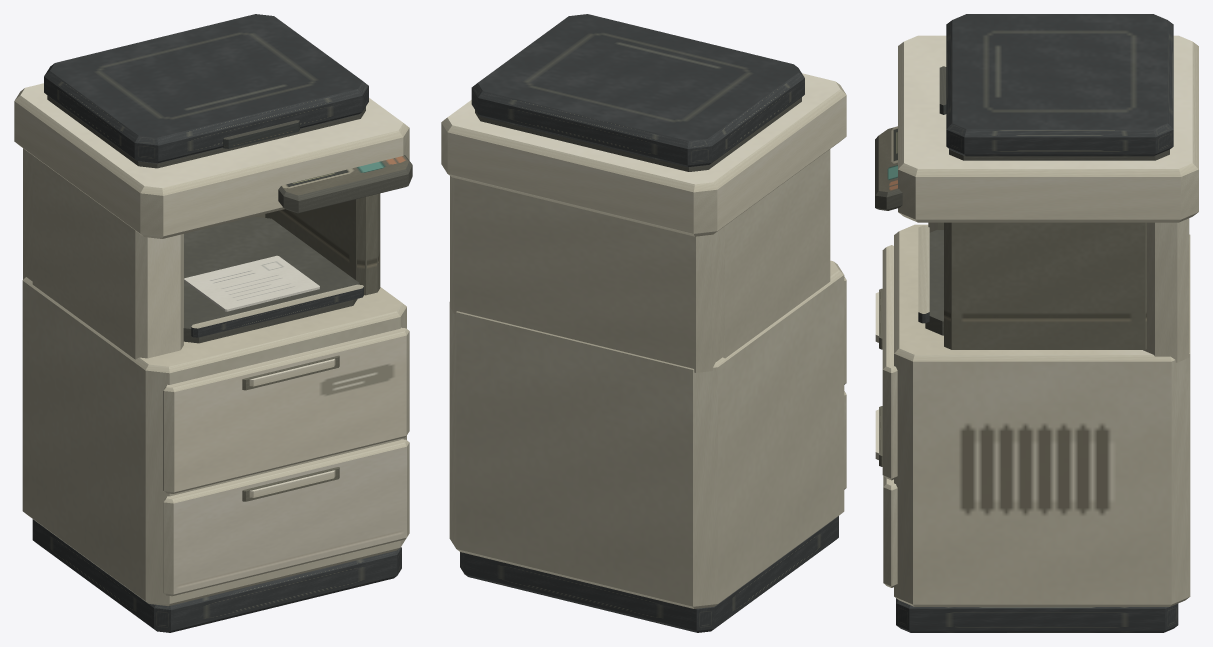
The model's file is office_photocopier.glb.
3 renders of one model, left to right at view 1: azimuth 30°, elevation 25°; view 2: azimuth 150°, elevation 25°; view 3: azimuth 270°, elevation 25°, orthographic. The views are drawn at different scales.
Visible parts, largest first — view 1: Office Photocopier; view 2: Office Photocopier; view 3: Office Photocopier.
Part boxes in pixels (bbox=[...]): Office Photocopier: bbox=[14, 14, 412, 632]; Office Photocopier: bbox=[441, 14, 846, 632]; Office Photocopier: bbox=[875, 14, 1198, 632].
Size of the model in its own units: 0.647 by 1.09 by 0.64.
Materials: 1 (1 with a texture image).
